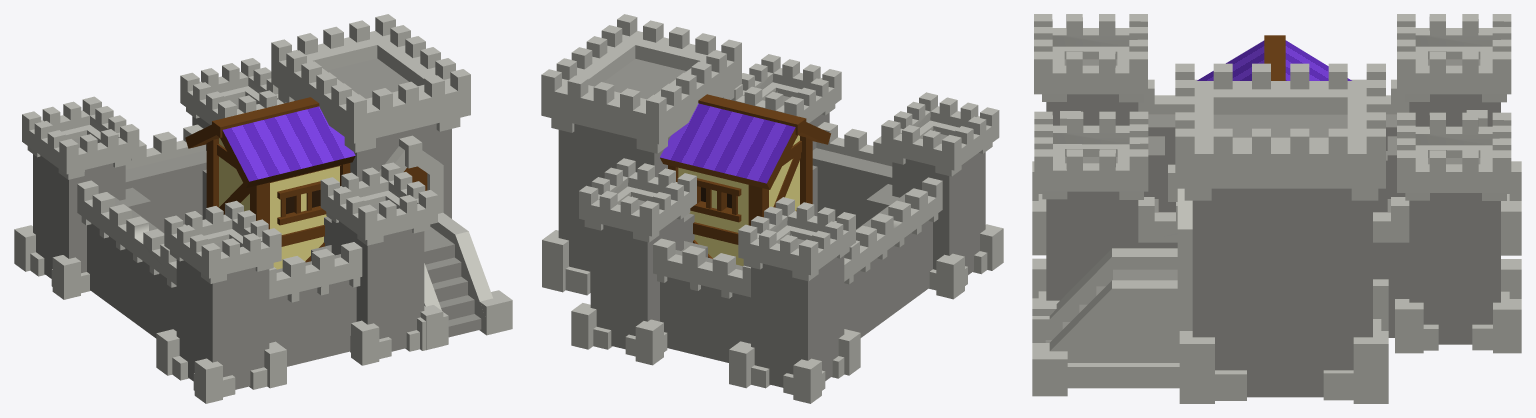
The model's file is SmallKeep.fbx.
3 renders of one model, left to right at view 1: azimuth 30°, elevation 25°; view 2: azimuth 150°, elevation 25°; view 3: azimuth 270°, elevation 25°, orthographic. The views are drawn at different scales.
Parts seen in each view (by area): view 1: pasted__polySurface1; view 2: pasted__polySurface1; view 3: pasted__polySurface1.
Boxes of the visible parts, bbox=[...] form: pasted__polySurface1: bbox=[14, 14, 512, 403]; pasted__polySurface1: bbox=[541, 14, 1003, 403]; pasted__polySurface1: bbox=[1032, 14, 1521, 403].
Size of the model in its own units: 247 by 155 by 256.
1 material, 1 textured.
